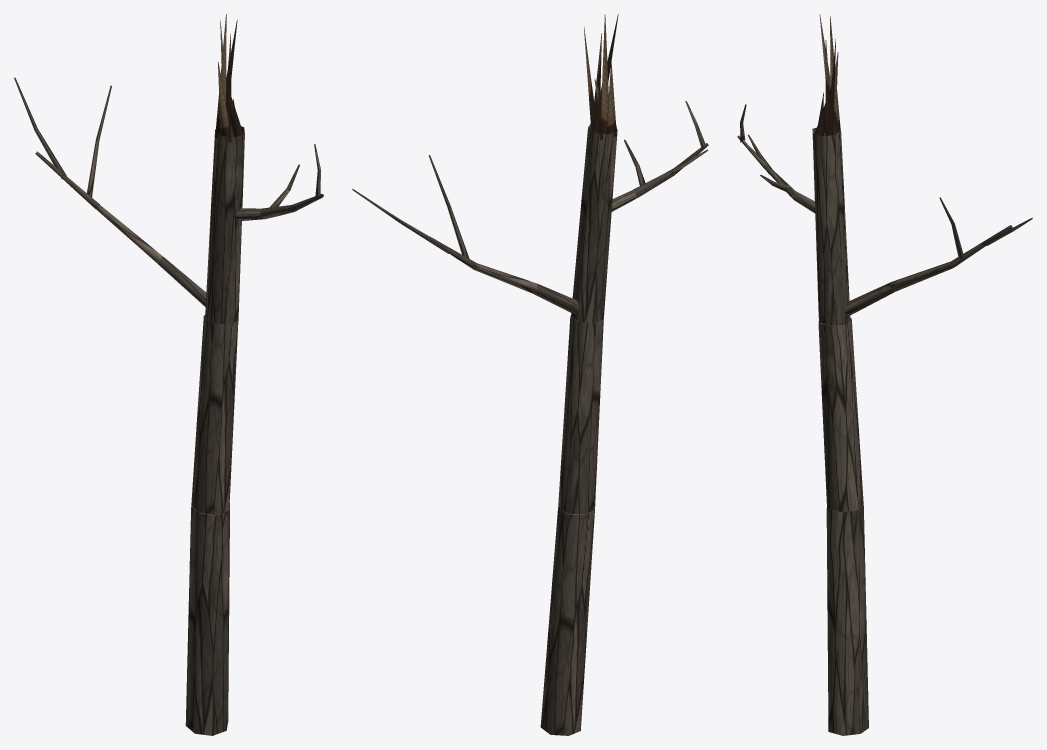
Rendered from S7U_Tree_Broken_C.fbx.
3 views of the same model, side by side, from view 1: azimuth 90°, elevation 25°; view 2: azimuth 150°, elevation 25°; view 3: azimuth 270°, elevation 25° (orthographic). The views are drawn at different scales.
Parts seen in each view (by area): view 1: S7U_Tree_Broken_C; view 2: S7U_Tree_Broken_C; view 3: S7U_Tree_Broken_C.
Part boxes in pixels (box(x1,y1,x2,y2)): S7U_Tree_Broken_C: box(14, 14, 323, 735); S7U_Tree_Broken_C: box(352, 14, 708, 735); S7U_Tree_Broken_C: box(737, 14, 1032, 735).
Bounding box in the file's own units: 1.94 × 6.32 × 2.43.
